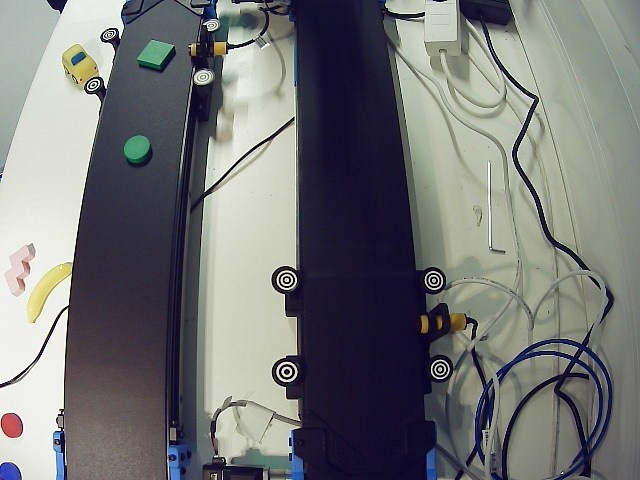Green_Circle: (120, 134, 154, 165)
Green_Square: (136, 39, 179, 74)
